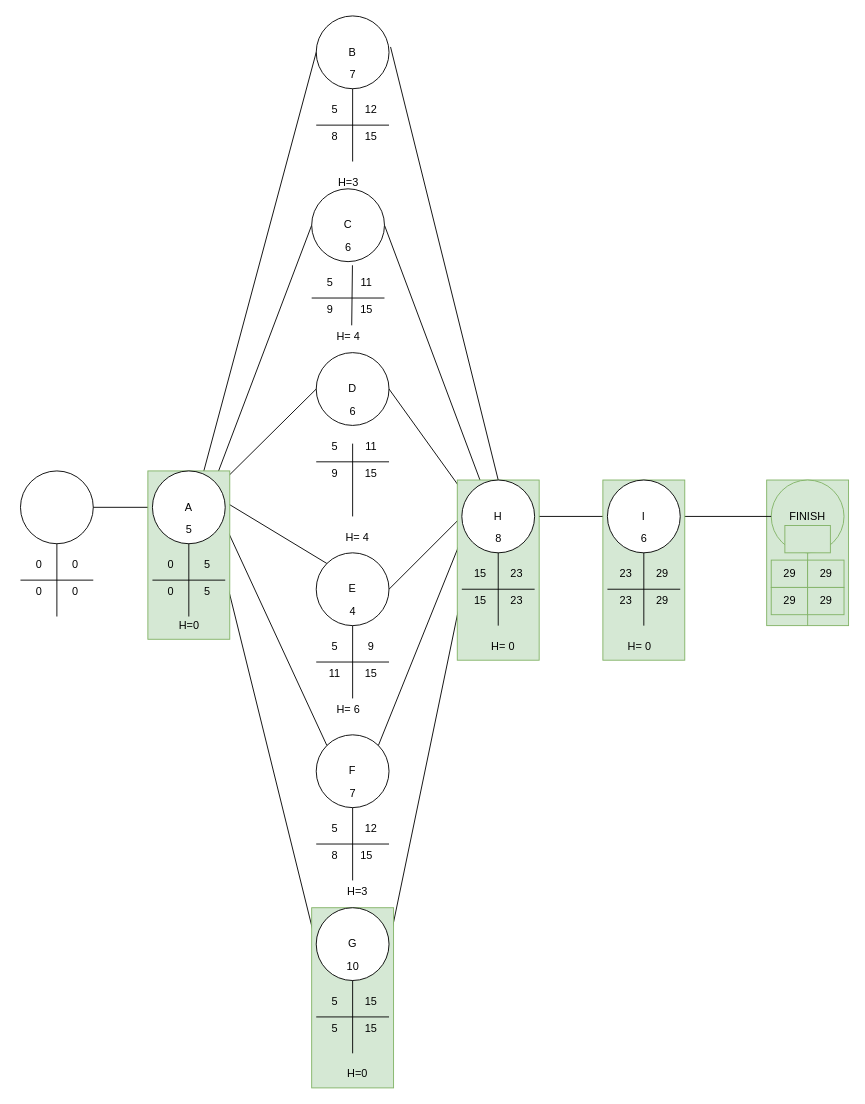
Image size: 865x1104. Some labels were removed from this diagram. The centre of each missing label's shape, as x and y in pixels:
INICIO: the point at 56,507
Text: the point at 807,539
